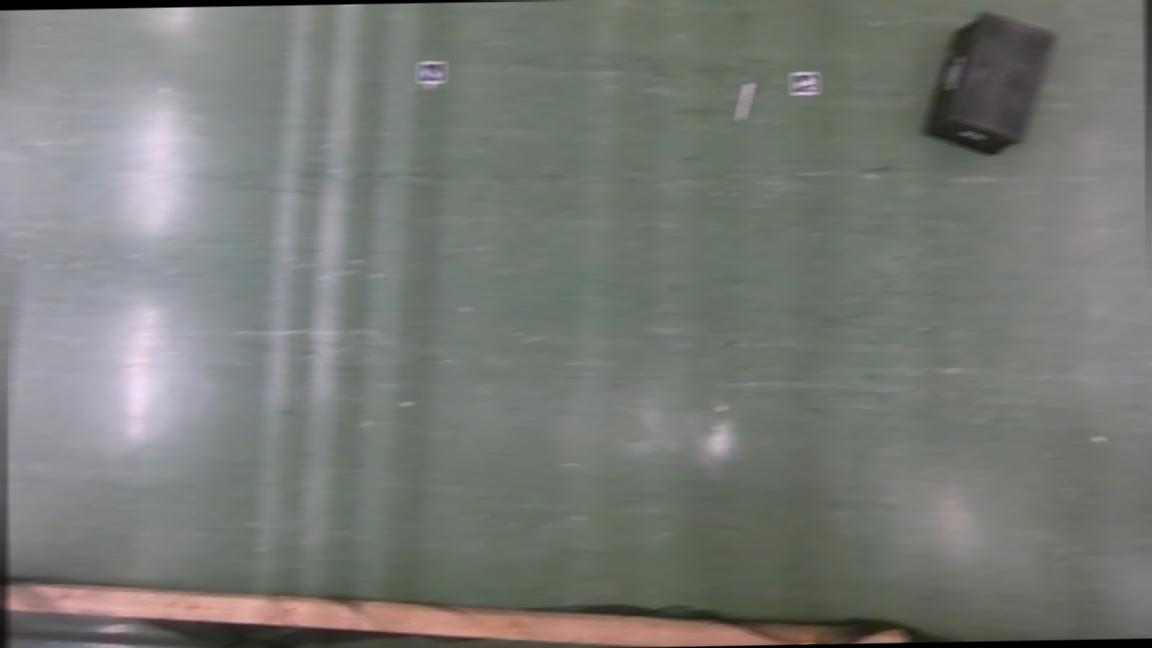rako: (919, 11, 1058, 159)
